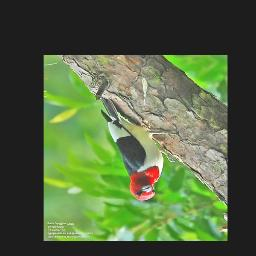Woodpecker: (96, 98, 175, 202)
